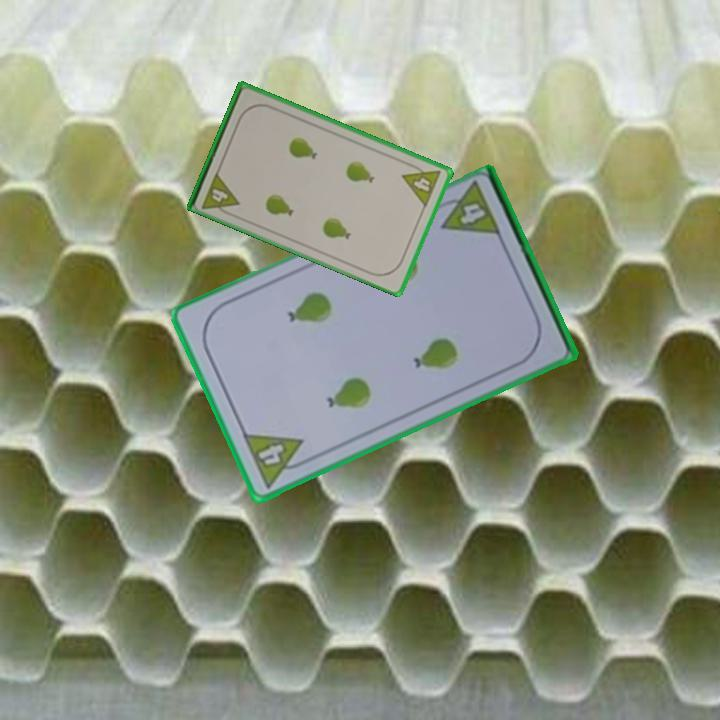4p: (239, 429, 314, 491), (430, 179, 504, 241), (399, 158, 444, 210), (198, 168, 242, 219)
